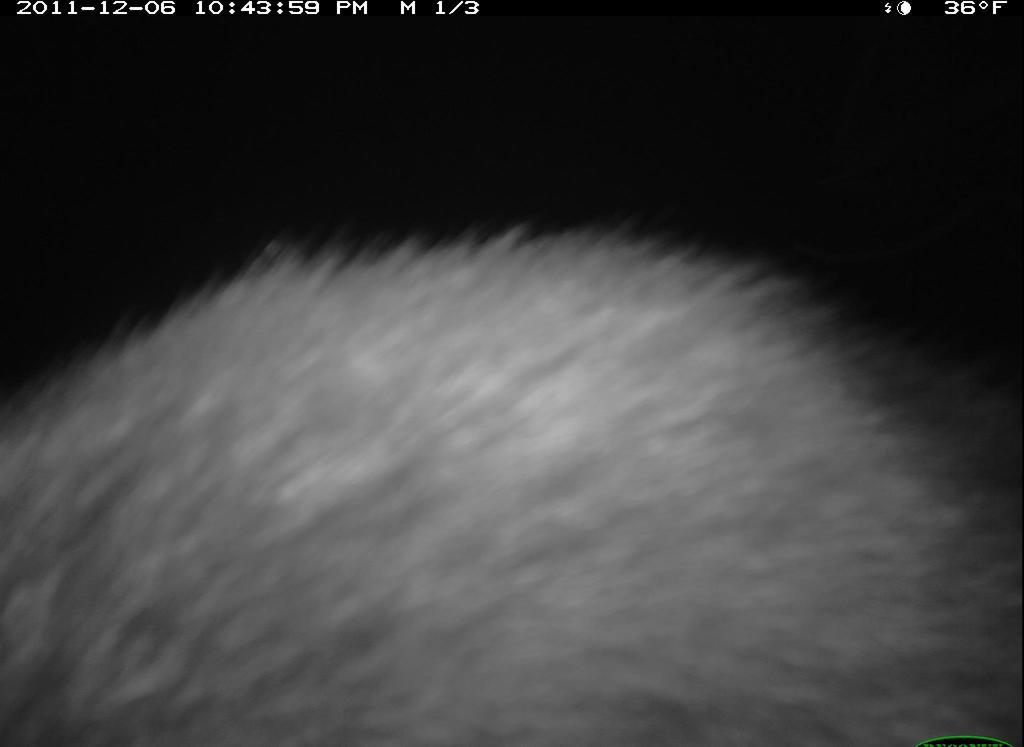raccoon: (8, 204, 1023, 745)
